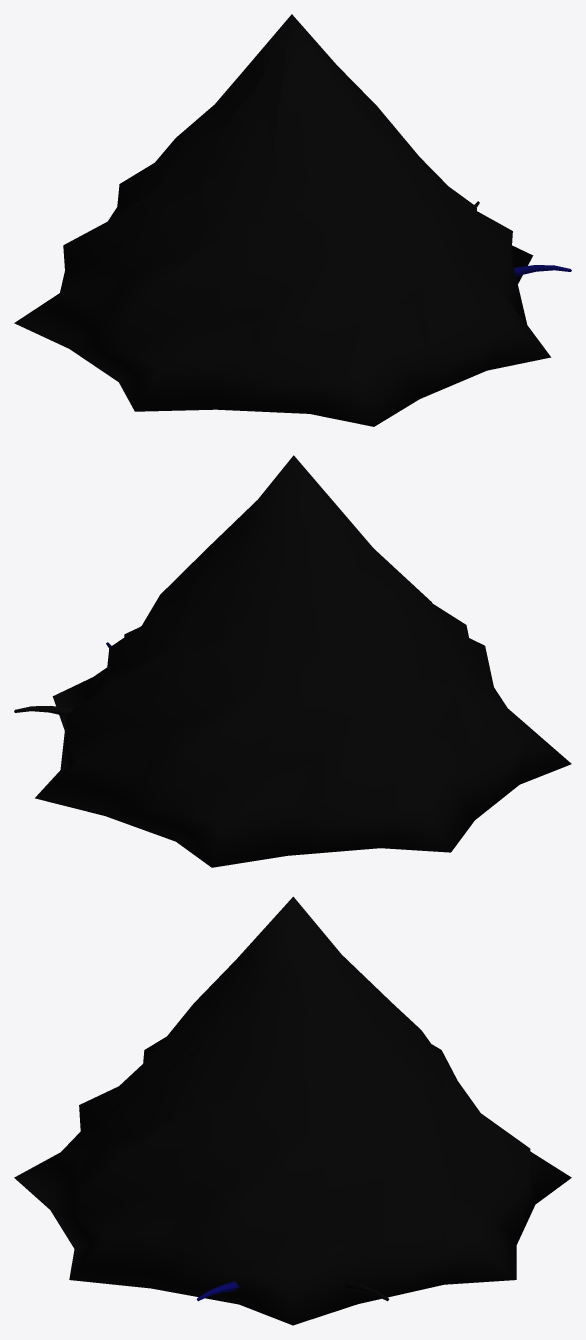
File: astrea_lod1.glb
3 renders of one model, top to bottom at view 1: azimuth 30°, elevation 25°; view 2: azimuth 150°, elevation 25°; view 3: azimuth 270°, elevation 25°, orthographic. The views are drawn at different scales.
Parts seen in each view (by area): view 1: Shell; view 2: Shell; view 3: Shell, Tentacles.
Boxes of the visible parts, bbox=[...] form: Shell: bbox=[14, 14, 551, 426]; Shell: bbox=[35, 455, 571, 867]; Shell: bbox=[14, 896, 571, 1325]; Tentacles: bbox=[196, 1280, 389, 1301].
Size of the model in its own units: 1.14 by 0.7652 by 1.17.
Materials: 1 (1 with a texture image).
